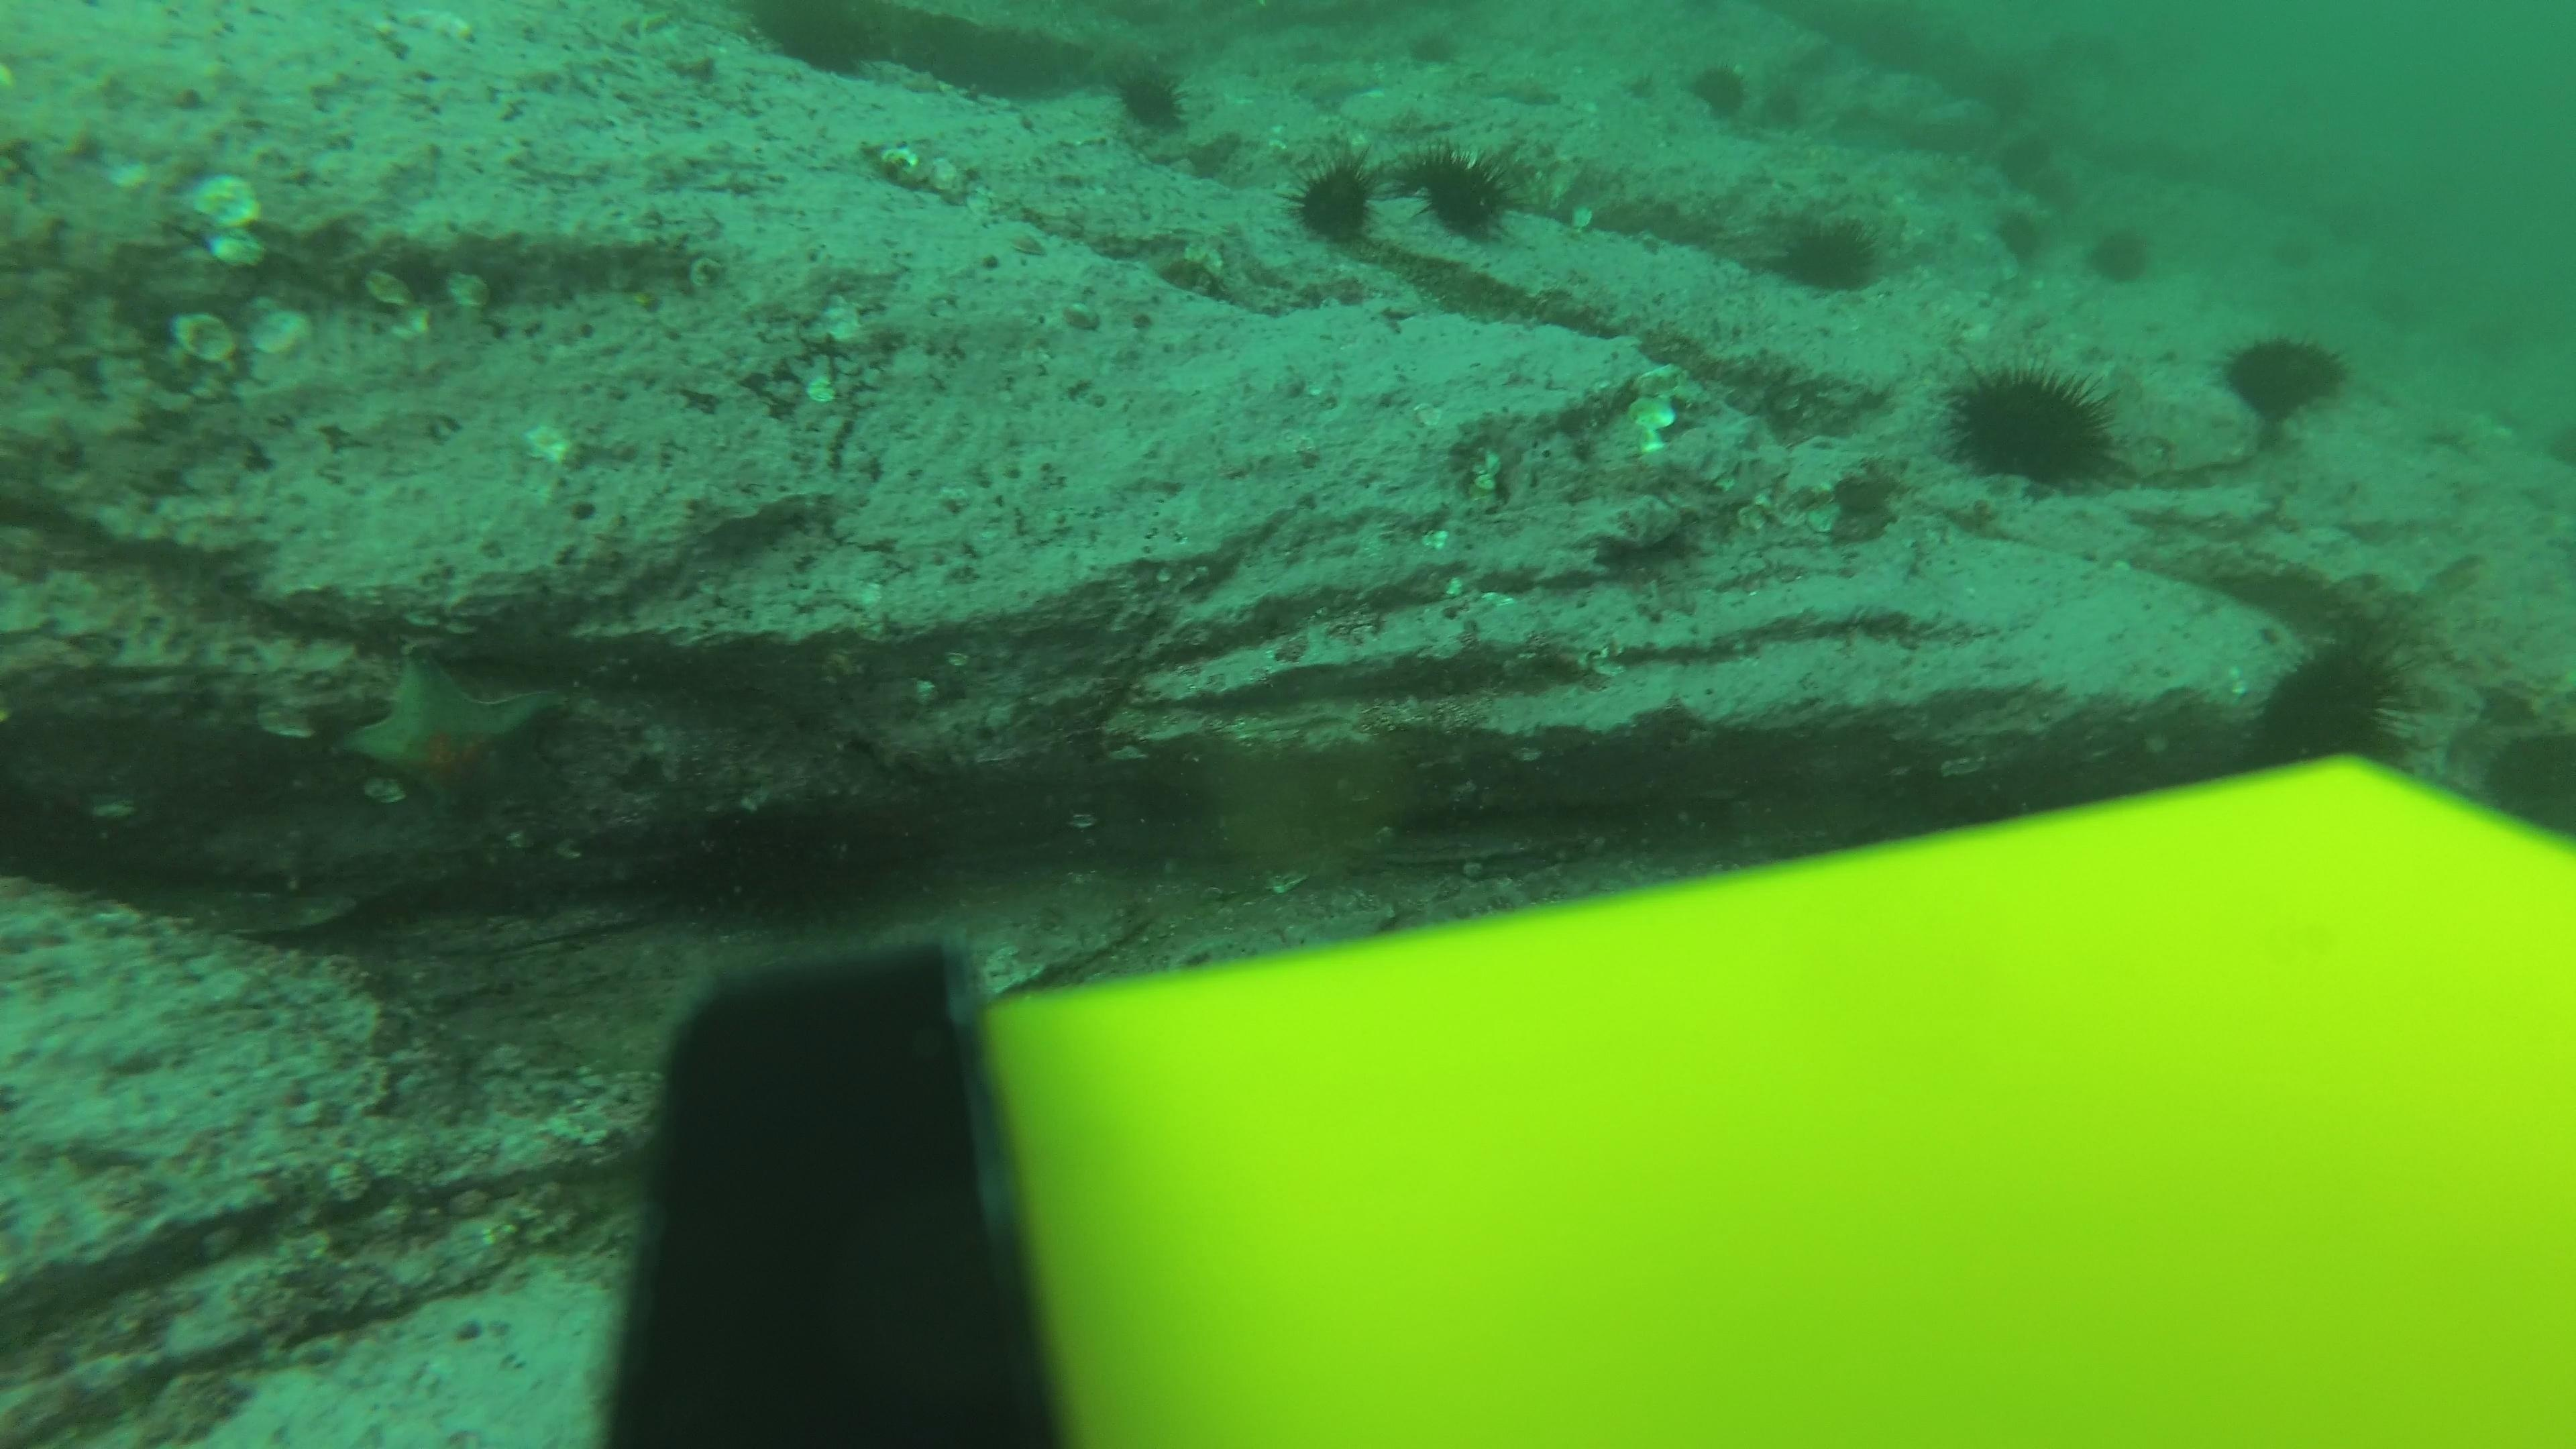echinus: (1937, 354, 2125, 497), (2242, 633, 2417, 773), (2215, 322, 2353, 428), (1396, 138, 1527, 248), (738, 2, 892, 83), (1766, 205, 1893, 303), (1281, 149, 1391, 253), (1100, 57, 1200, 143), (2079, 216, 2160, 290), (1679, 53, 1760, 124), (1407, 27, 1467, 87), (1755, 81, 1815, 140), (2031, 157, 2079, 212), (1996, 131, 2043, 184), (1999, 214, 2045, 267)
starfish: (331, 640, 571, 835), (1283, 53, 1385, 113)
